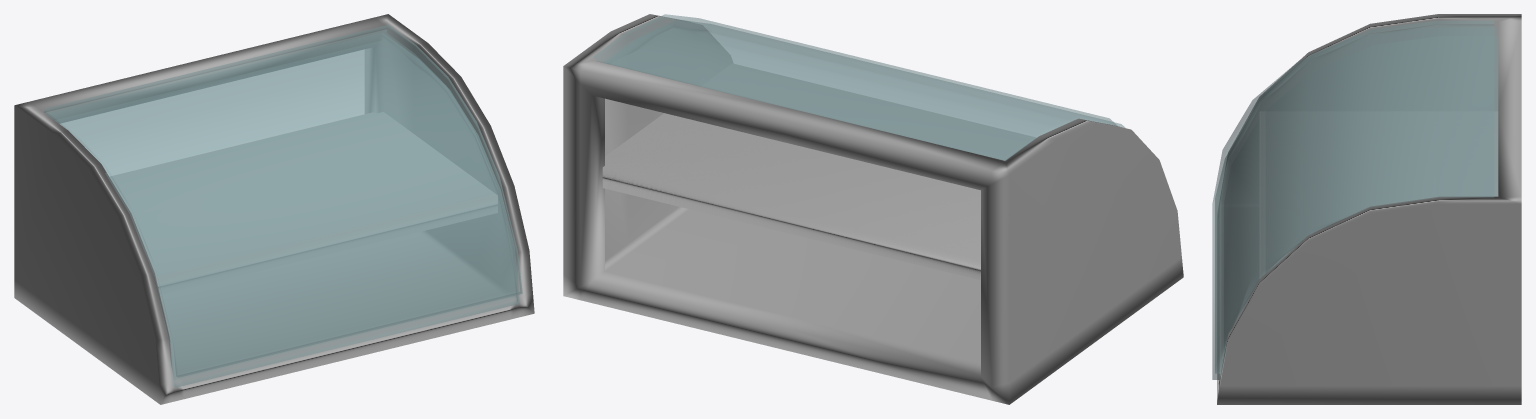
Rendered from Display case.fbx.
The picture shows the model from 3 angles, left to right: view 1: azimuth 30°, elevation 25°; view 2: azimuth 150°, elevation 25°; view 3: azimuth 270°, elevation 25°; orthographic projection. The views are drawn at different scales.
Visible parts, largest first — view 1: Display_Case; view 2: Display_Case; view 3: Display_Case.
Part boxes in pixels (x1,y1,x2,y2): Display_Case: (14, 14, 534, 404); Display_Case: (563, 14, 1183, 404); Display_Case: (1212, 14, 1521, 404).
Bounding box in the file's own units: 69.28 × 34.45 × 47.63.
